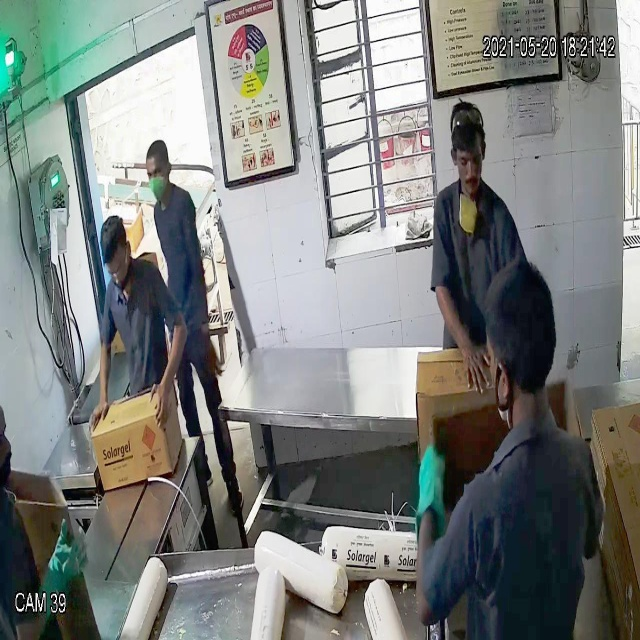Sin_gafas: (451, 142, 486, 172)
